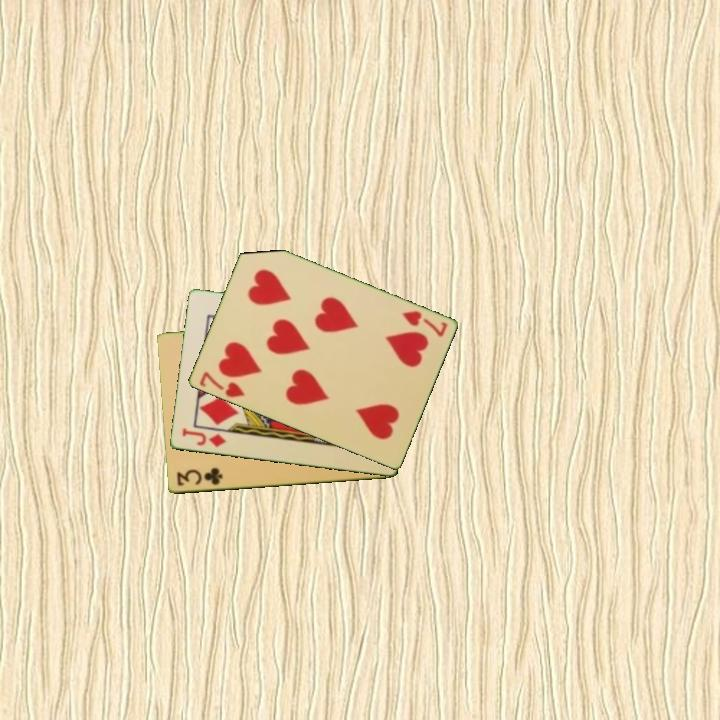3c: (173, 464, 225, 489)
7h: (195, 368, 247, 401), (398, 307, 450, 340)
Jd: (178, 425, 229, 450)
